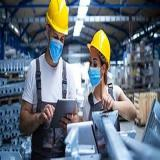Helmet: (86, 27, 111, 71), (46, 0, 69, 39)
